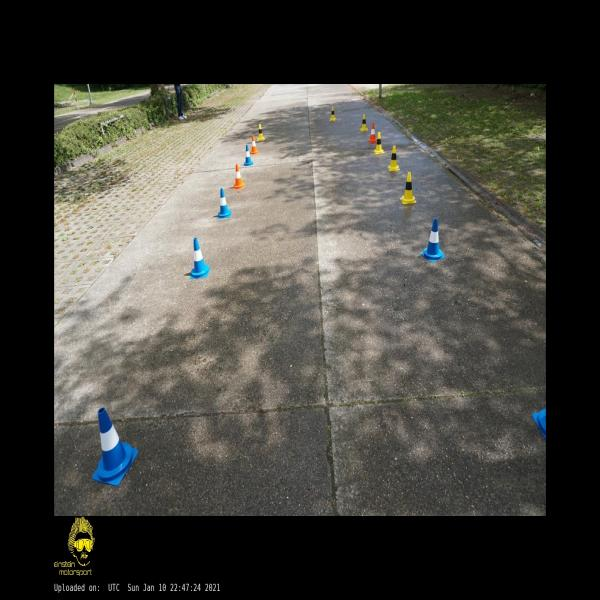blue_cone: (92, 408, 139, 487), (420, 218, 446, 262), (189, 238, 210, 279), (217, 188, 232, 218), (244, 144, 254, 167)
orange_cone: (233, 164, 245, 189), (368, 123, 377, 143), (250, 135, 258, 155)
yellow_cone: (400, 172, 416, 205), (387, 145, 400, 172), (372, 132, 384, 155), (257, 123, 265, 142), (360, 114, 368, 132), (330, 106, 337, 122)
